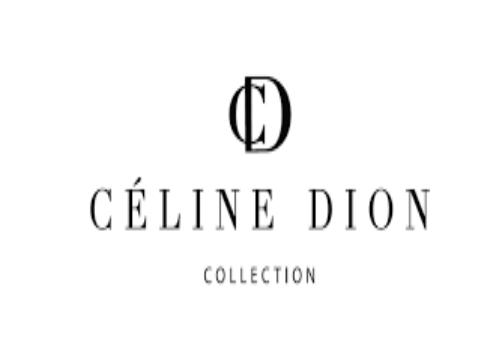CELINE: (84, 172, 290, 242)
